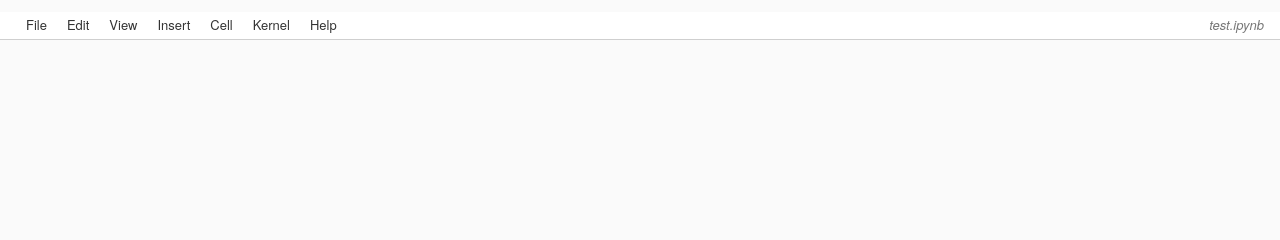
Test: MenuBar › opens Cell dropdown with run options
Click the text "Cell".
click(222, 24)  # box top-left (210, 15), bottom-right (233, 34)
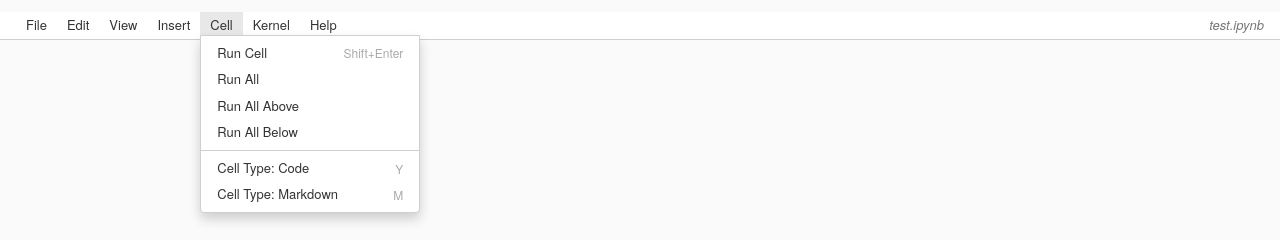
Check: the text "Run Cell" is shown, box top-left (217, 44), bottom-right (267, 62)
Check: the text "Run All" is shown, box top-left (217, 70), bottom-right (259, 89)
